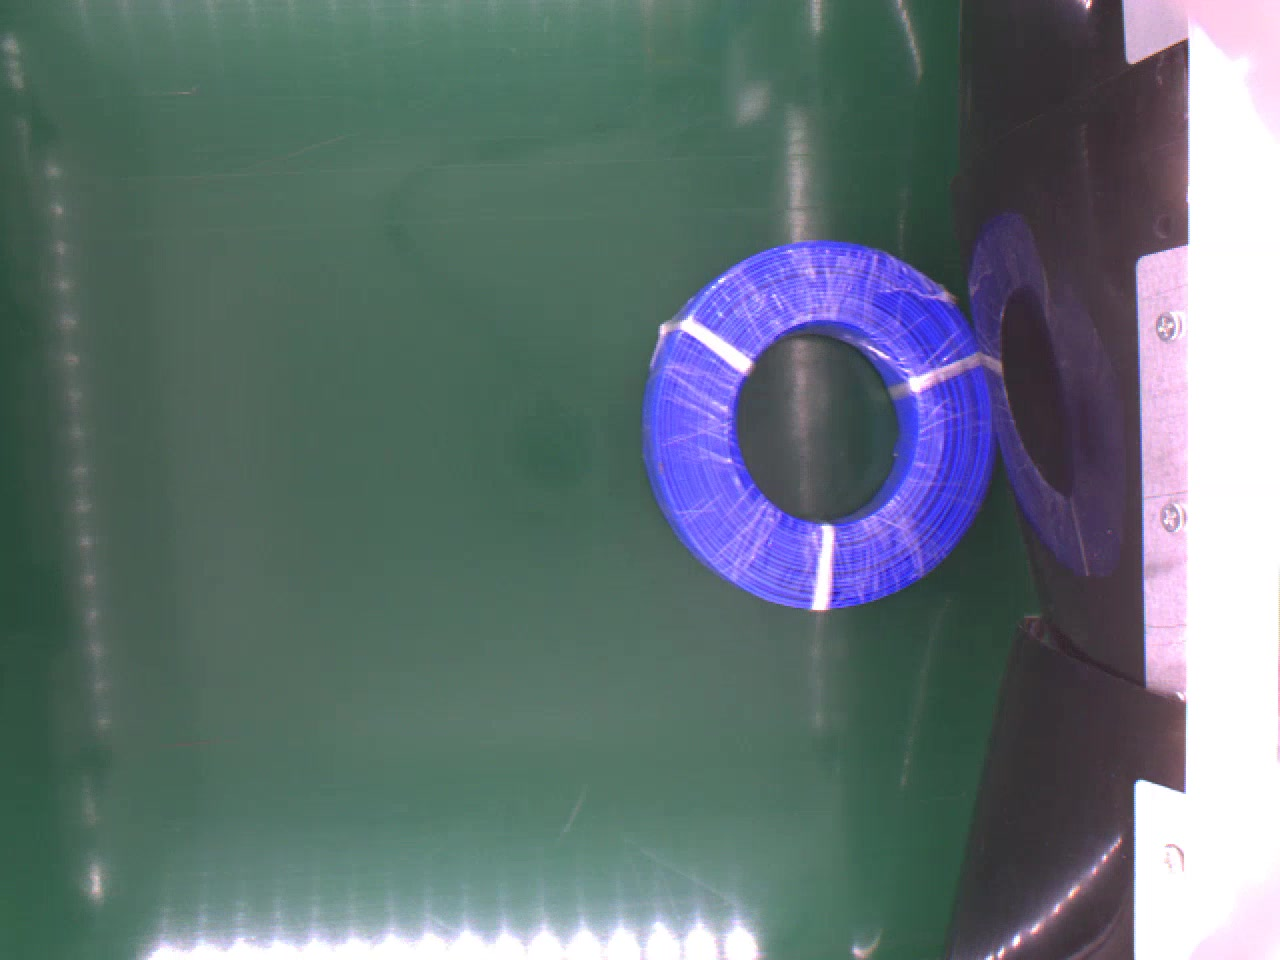blue: (640, 232, 999, 611)
